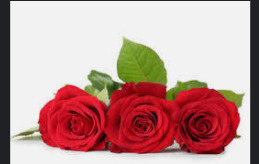RedRose: (107, 84, 179, 154), (35, 85, 109, 152), (183, 87, 234, 152)
